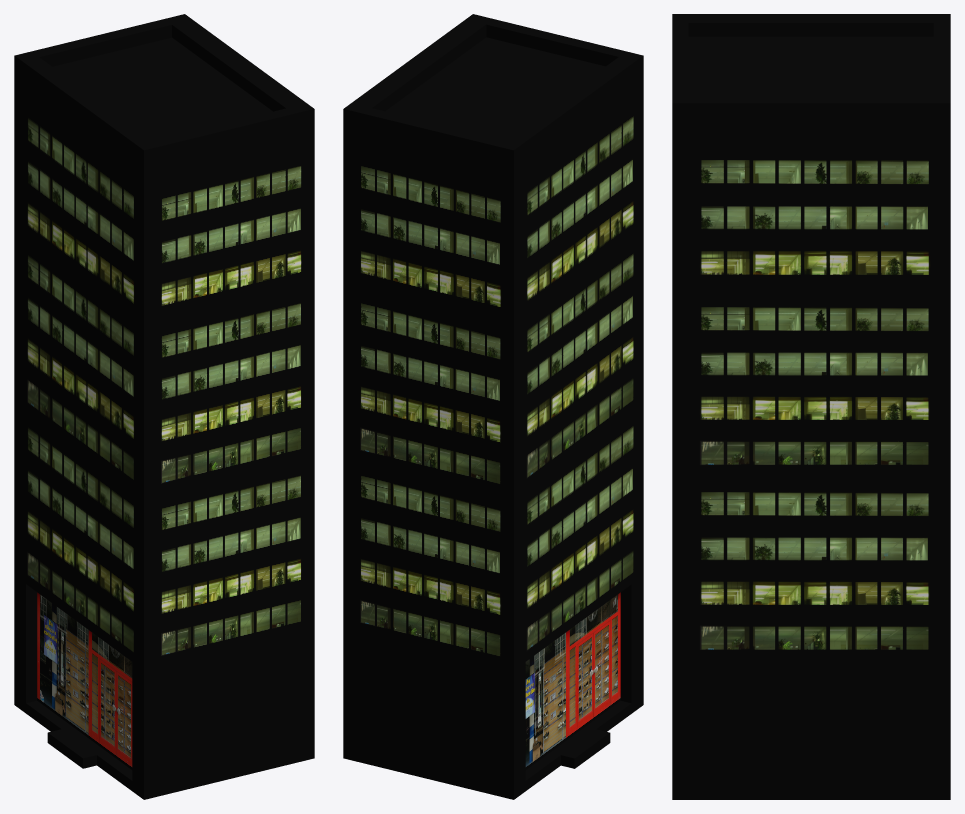
File: building14.FBX
3 views of the same model, side by side, from view 1: azimuth 30°, elevation 25°; view 2: azimuth 150°, elevation 25°; view 3: azimuth 270°, elevation 25° (orthographic). The views are drawn at different scales.
Parts seen in each view (by area): view 1: Box002; view 2: Box002; view 3: Box002.
Boxes of the visible parts, x1,y1,x2,y2 form: Box002: (14,14,314,799); Box002: (343,14,643,799); Box002: (672,14,950,799).
Bounding box in the file's own units: 46.46 × 156 × 56.59.
